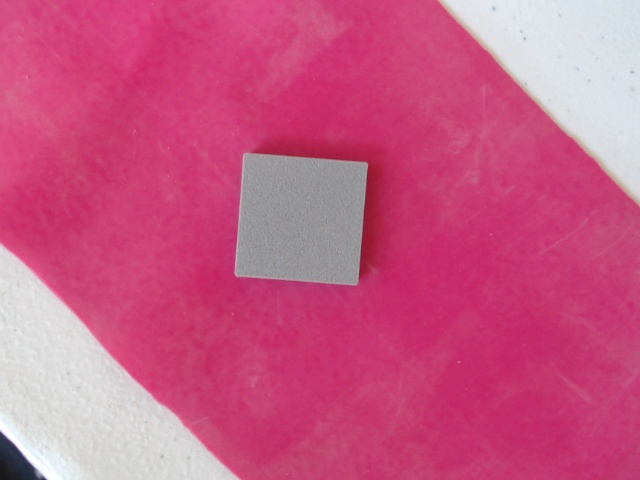Defective: (233, 145, 370, 300)
